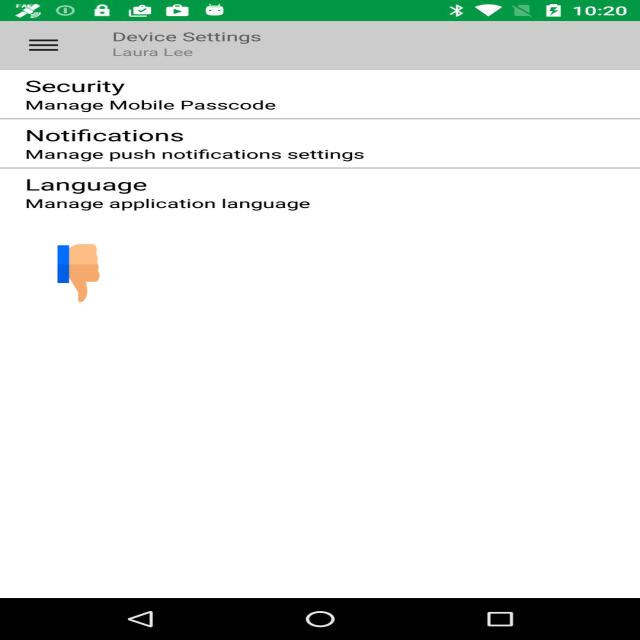obstruction: (58, 242, 100, 304)
